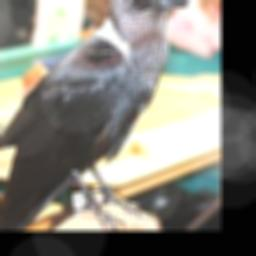Crow: (0, 0, 197, 230)
